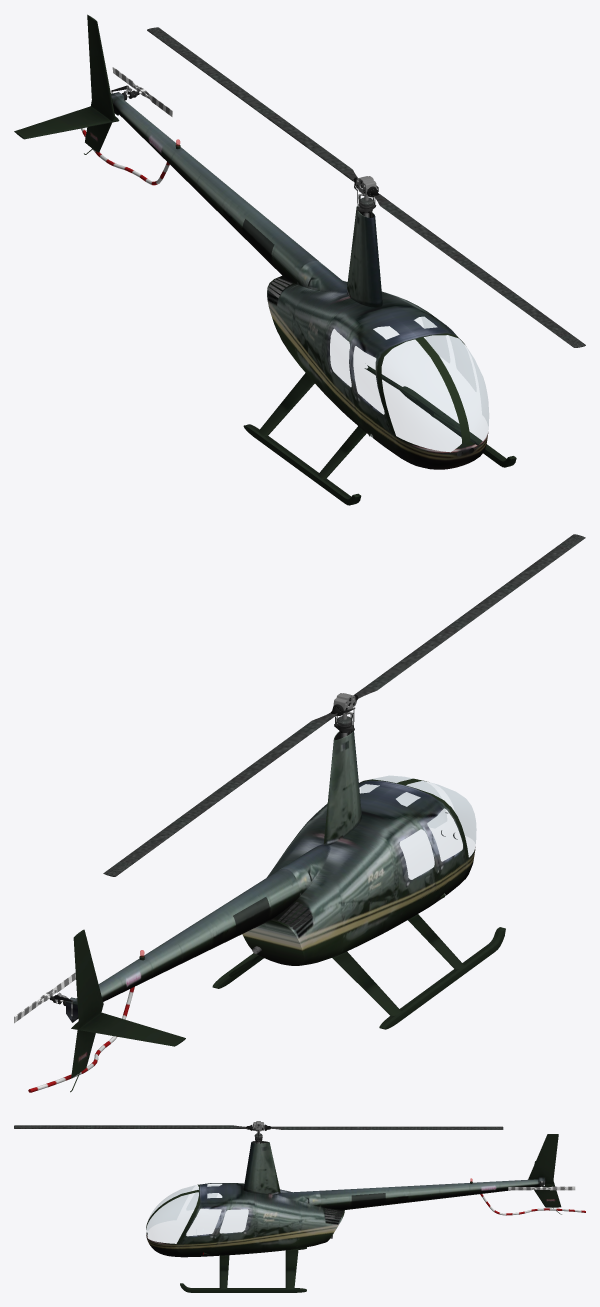
File: Green.gltf
3 renders of one model, top to bottom at view 1: azimuth 30°, elevation 25°; view 2: azimuth 150°, elevation 25°; view 3: azimuth 270°, elevation 25°, orthographic. The views are drawn at different scales.
Parts seen in each view (by area): view 1: Exterior, Spin_0; view 2: Exterior, Spin_0; view 3: Exterior, Spin_0, Spin_1.
Part boxes in pixels (left/top/right/bottom): Exterior: left=14, top=14, right=516, bottom=505; Spin_0: left=147, top=27, right=585, bottom=347; Exterior: left=28, top=731, right=505, bottom=1092; Spin_0: left=103, top=534, right=585, bottom=876; Exterior: left=146, top=1134, right=585, bottom=1292; Spin_0: left=14, top=1121, right=503, bottom=1143; Spin_1: left=508, top=1184, right=575, bottom=1190.
Bounding box in the file's own units: 2.39 × 3.36 × 11.78.
10 materials, 10 textured.
